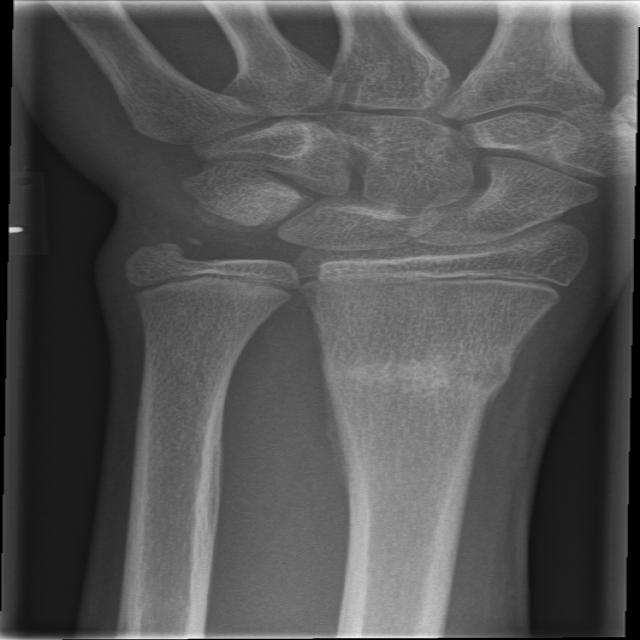radius fracture: (282, 309, 554, 452)
